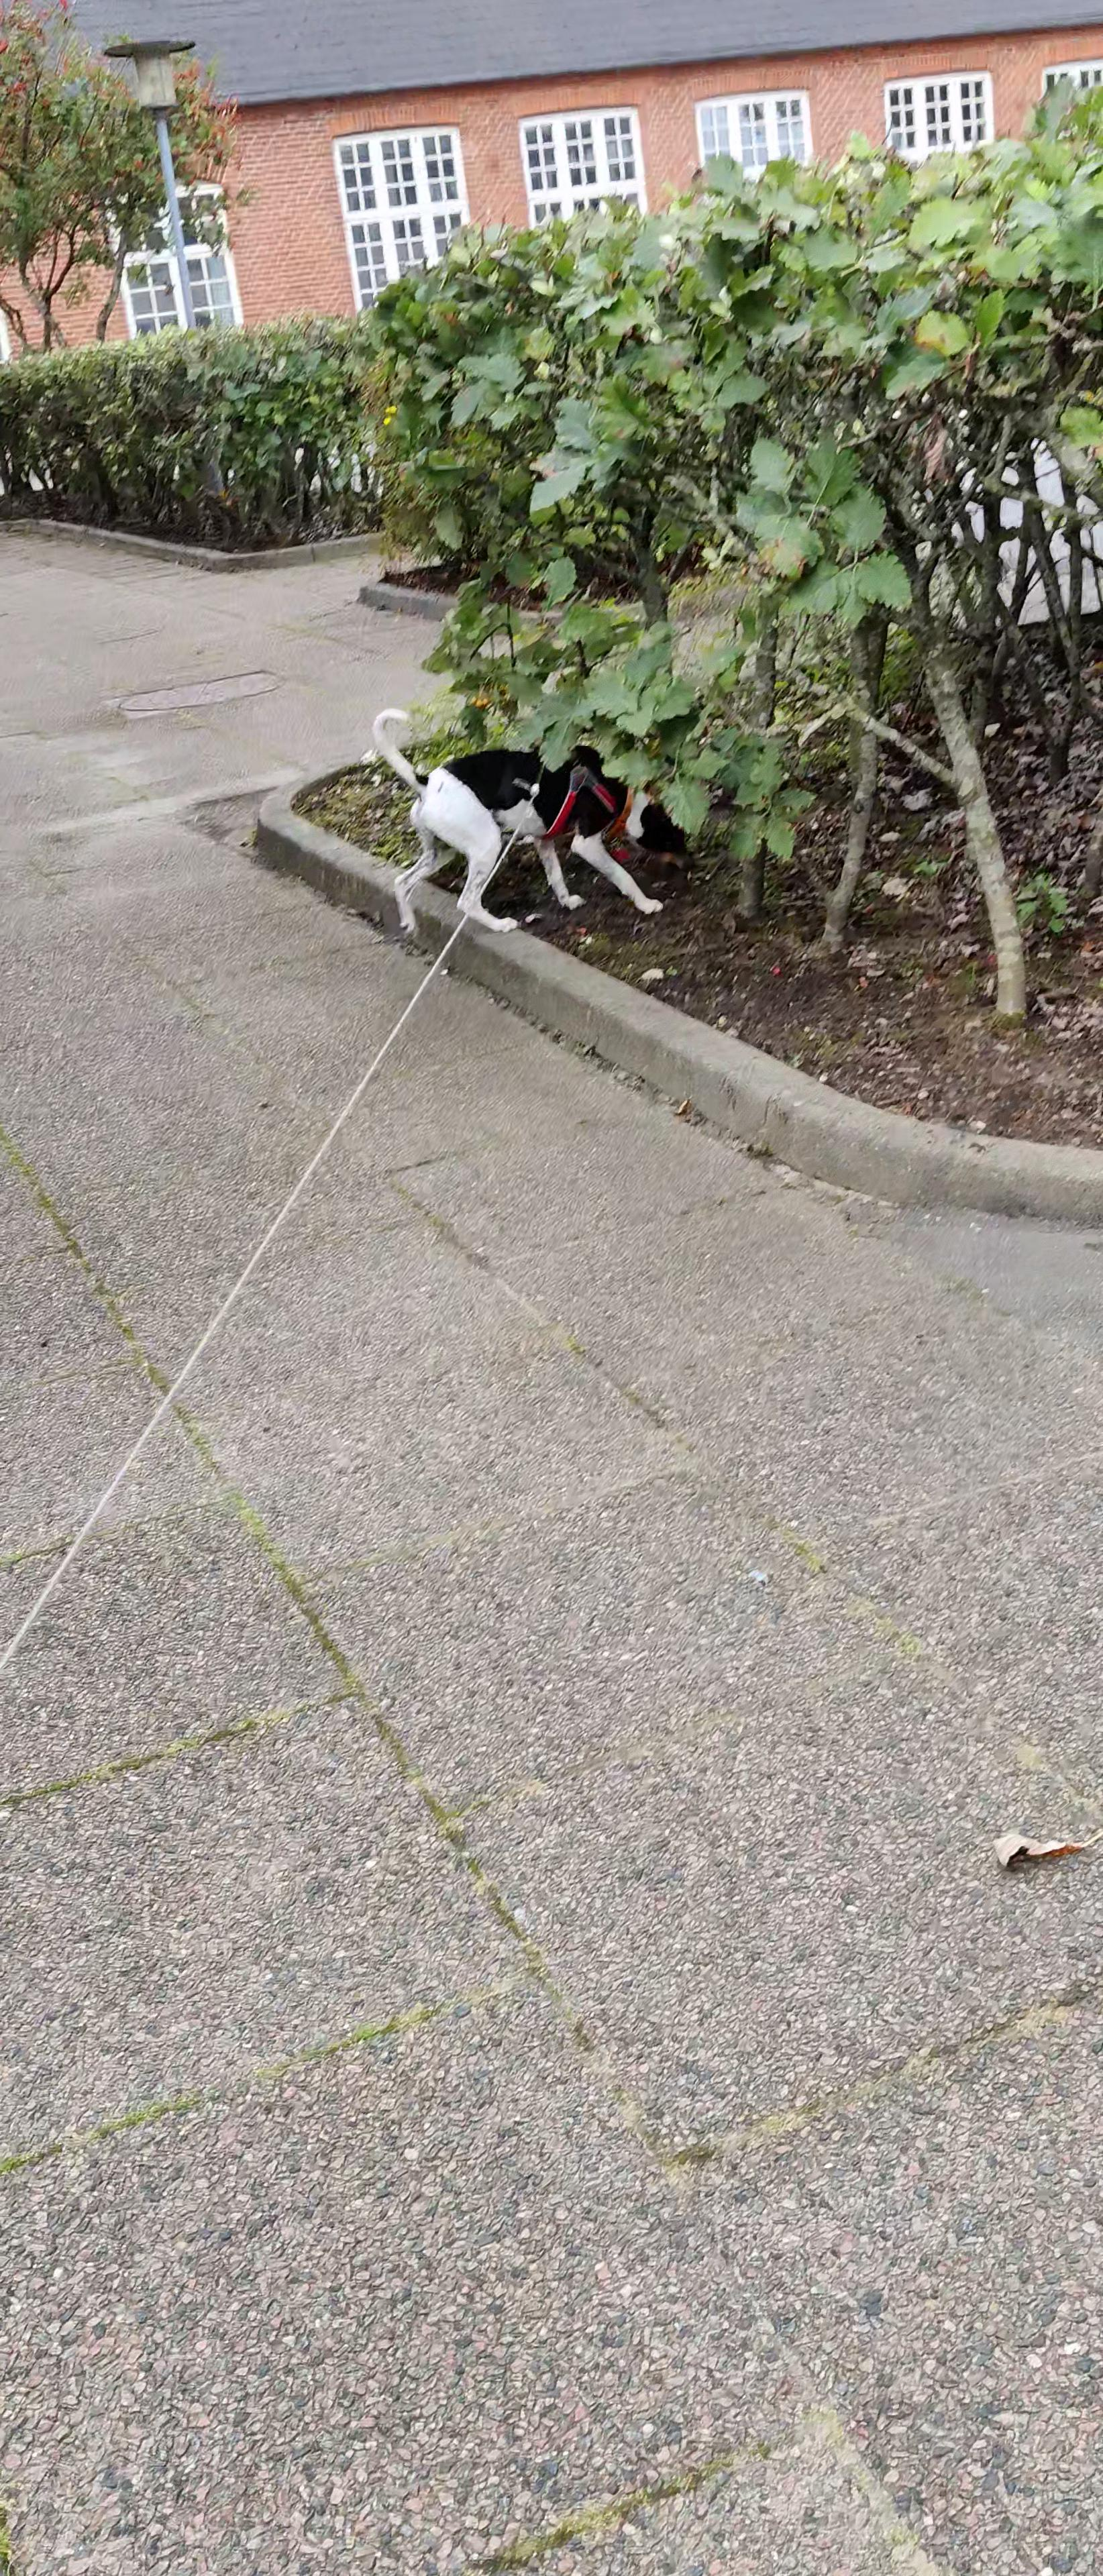Dog: (362, 698, 707, 946)
